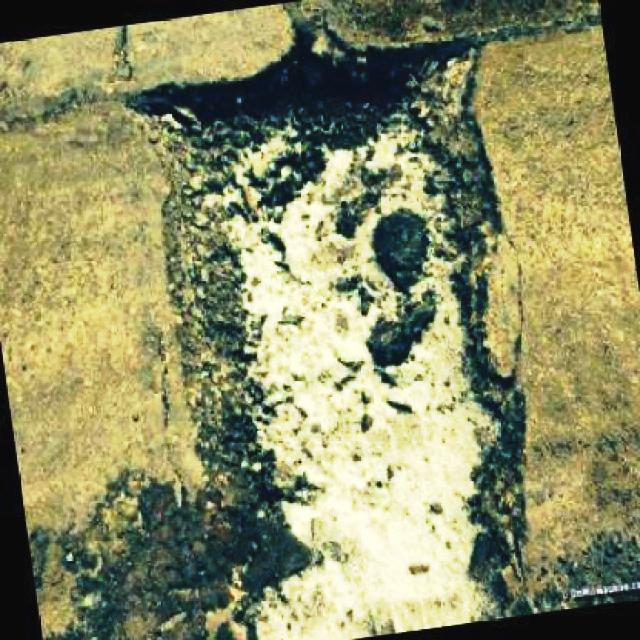pothole: (112, 41, 532, 637), (284, 0, 608, 60)
